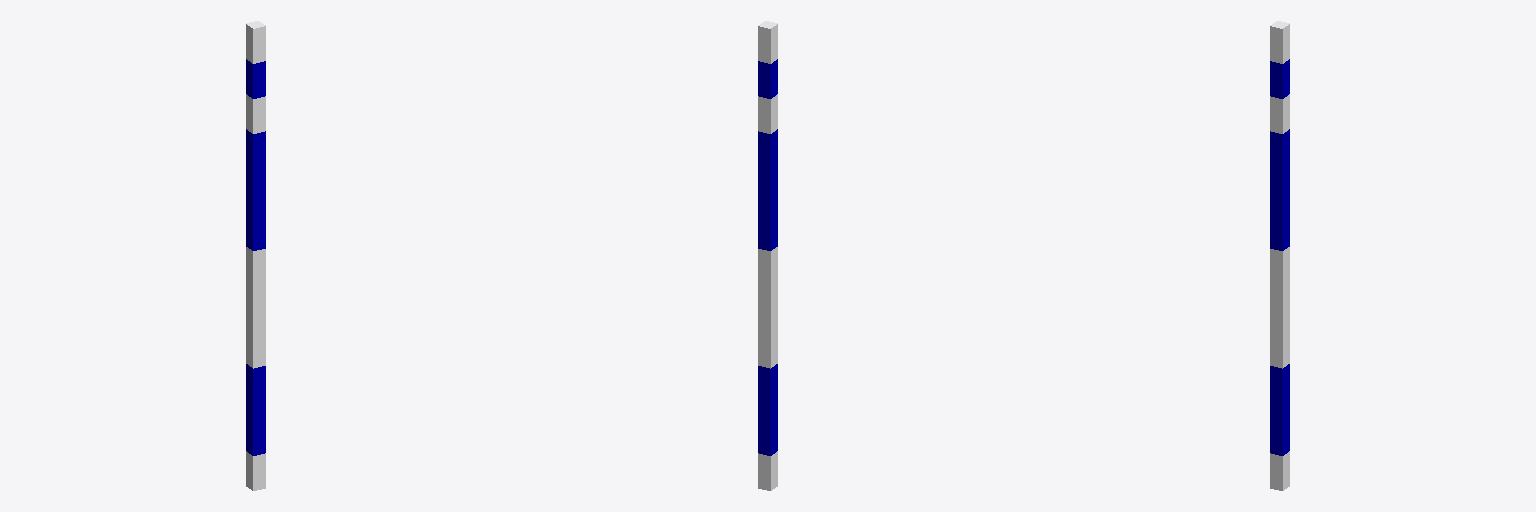
The robot description file, URDF, robot "multiple":
<?xml version="1.0"?>
<!-- First line must be verson!! -->
<!-- 
rev_config1 = { "Link" : [0,0,3], "RotAxis" : [0,0,1], "AngleLimits" : [0, 2*np.pi]}
rev_config2 = { "Link" : [0,0,3], "RotAxis" : [0,1,0], "AngleLimits" : [0, 2*np.pi]}
rev_config3 = { "Link" : [0,0,2], "RotAxis" : [0,1,0], "AngleLimits" : [0, 2*np.pi]}
rev_config4 = { "Link" : [0,0,2], "RotAxis" : [1,0,0], "AngleLimits" : [0, 2*np.pi]}
rev_config5 = { "Link" : [0,0,1], "RotAxis" : [0,1,0], "AngleLimits" : [0, 2*np.pi]}
rev_config6 = { "Link" : [0,0,1], "RotAxis" : [1,0,0], "AngleLimits" : [0, 2*np.pi]} 
-->

<robot name="multiple">

  <material name="blue">
    <color rgba="0 0 0.8 1"/>
  </material>

  <material name="white">
    <color rgba="1 1 1 1"/>
  </material>

  <link name="u0">
    <visual>
      <geometry>
        <box size="0.2301 0.2301 0.6"/>
      </geometry>
      <origin rpy="0 0 0" xyz="0 0 0.3"/>
      <material name="white"/>
    </visual>
  </link>


  <link name="u1">
    <visual>
      <geometry>
        <box size="0.23 0.23 1.5"/>
        <!-- <cylinder length="0.6" radius="0.2"/> -->
      </geometry>
      <origin rpy="0 0 0" xyz="0 0 0.75"/>
      <material name="blue"/>
    </visual>
  </link>

  <link name="u2">
    <visual>
      <geometry>
        <box size="0.2301 0.2301 2"/>
      </geometry>
      <origin rpy="0 0 0" xyz="0 0 1"/>
      <material name="white"/>
    </visual>
  </link>

  <link name="u3">
    <visual>
      <geometry>
        <box size="0.23 0.23 2"/>
      </geometry>
      <material name="blue"/>
      <origin rpy="0 0 0" xyz="0 0 1"/>
    </visual>
  </link>

  <link name="u4">
    <visual>
      <geometry>
        <box size="0.2301 0.2301 0.6"/>
      </geometry>
      <material name="white"/>
      <origin rpy="0 0 0" xyz="0 0 0.3"/>
    </visual>
  </link>

  <link name="u5">
    <visual>
      <geometry>
        <box size="0.23 0.23 0.6"/>
      </geometry>
      <material name="blue"/>
      <origin rpy="0 0 0" xyz="0 0 0.3"/>
    </visual>
  </link>

  <link name="u6">
    <visual>
      <geometry>
        <box size="0.2301 0.2301 0.6"/>
      </geometry>
      <material name="white"/>
      <origin rpy="0 0 0" xyz="0 0 0.3"/>
    </visual>
  </link>

  <link name="world"/>

  <joint name="fixed" type="fixed">
    <parent link="world"/>
    <child link="u0"/>
  </joint>

  <joint name="u01" type="revolute">
    <parent link="u0"/>
    <child link="u1"/>
    <axis xyz="0 0 1"/>
    <origin xyz="0 0 0.6"/>
    <limit lower="-3" upper="3" effort="1" velocity="1"/>
  </joint>

  <joint name="u12" type="revolute">
    <parent link="u1"/>
    <child link="u2"/>
    <axis xyz="0 1 0"/>
    <origin xyz="0 0 1.5"/>
    <limit lower="-3" upper="3" effort="1" velocity="1"/>
  </joint>

  <joint name="u23" type="revolute">
    <parent link="u2"/>
    <child link="u3"/>
    <axis xyz="0 1 0"/>
    <origin xyz="0 0 2"/>
    <limit lower="-3" upper="3" effort="1" velocity="1"/>
  </joint>

  <joint name="u34" type="revolute">
    <parent link="u3"/>
    <child link="u4"/>
    <axis xyz="0 1 0"/>
    <origin xyz="0 0 2"/>
    <limit lower="-3" upper="3" effort="1" velocity="1"/>
  </joint>

  <joint name="u45" type="revolute">
    <parent link="u4"/>
    <child link="u5"/>
    <axis xyz="0 0 1"/>
    <origin xyz="0 0 0.6"/>
    <limit lower="-3" upper="3" effort="1" velocity="1"/>
  </joint>

  <joint name="u56" type="revolute">
    <parent link="u5"/>
    <child link="u6"/>
    <axis xyz="1 0 0"/>
    <origin xyz="0 0 0.6"/>
    <limit lower="-3" upper="3" effort="1" velocity="1"/>
  </joint>

</robot>

--- Facts derived from the render (not from the file) ---
The picture shows the robot from 3 angles, left to right: view 1: azimuth 30°, elevation 25°; view 2: azimuth 150°, elevation 25°; view 3: azimuth 330°, elevation 25°; orthographic projection.
Model multiple with 8 links and 7 joints (6 revolute, 1 fixed), rooted at world, posed every joint at zero.
Links seen in each view (by area): view 1: u2, u3, u1, u6, u5, u0, u4; view 2: u2, u3, u1, u6, u5, u0, u4; view 3: u2, u3, u1, u6, u5, u0, u4.
Boxes of the visible links, x1,y1,x2,y2 form: u2: (246, 247, 265, 368); u3: (246, 129, 265, 250); u1: (246, 364, 265, 455); u6: (246, 21, 265, 63); u5: (246, 59, 265, 98); u0: (246, 451, 265, 490); u4: (246, 94, 265, 133); u2: (758, 247, 777, 368); u3: (758, 129, 777, 250); u1: (758, 364, 777, 455); u6: (758, 21, 777, 63); u5: (758, 59, 777, 98); u0: (758, 451, 777, 490); u4: (758, 94, 777, 133); u2: (1270, 247, 1289, 368); u3: (1270, 129, 1289, 250); u1: (1270, 364, 1289, 455); u6: (1270, 21, 1289, 63); u5: (1270, 59, 1289, 98); u0: (1270, 451, 1289, 490); u4: (1270, 94, 1289, 133).
Bounding box of the posed robot: 0.2301 × 0.2301 × 7.9 m (x, y, z).
Geometry: primitives only (box / cylinder / sphere), no mesh files.
